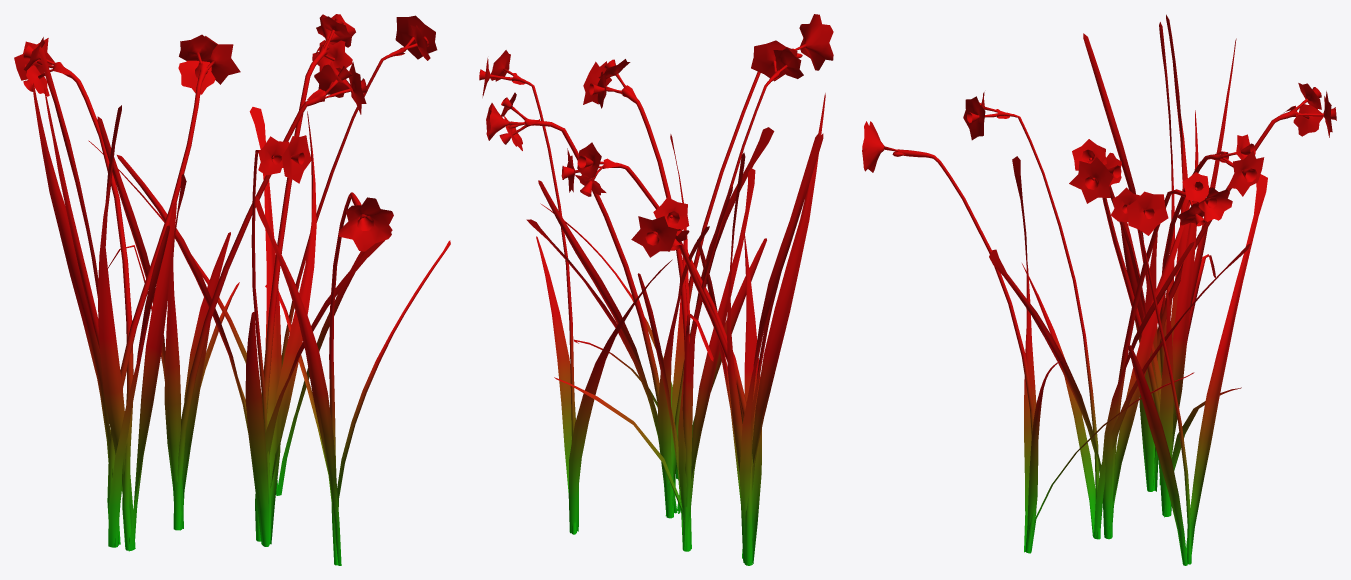
Rendered from Rush Daffodil_LOD1_Var2_wftgfjaia.fbx.
3 renders of one model, left to right at view 1: azimuth 30°, elevation 25°; view 2: azimuth 150°, elevation 25°; view 3: azimuth 270°, elevation 25°, orthographic. The views are drawn at different scales.
Visible parts, largest first — view 1: _waqq_var2_LOD1; view 2: _waqq_var2_LOD1; view 3: _waqq_var2_LOD1.
Part boxes in pixels (bbox=[...]): _waqq_var2_LOD1: bbox=[14, 14, 450, 565]; _waqq_var2_LOD1: bbox=[479, 14, 833, 565]; _waqq_var2_LOD1: bbox=[862, 14, 1336, 565].
Bounding box in the file's own units: 29.36 × 35.3 × 34.71.
